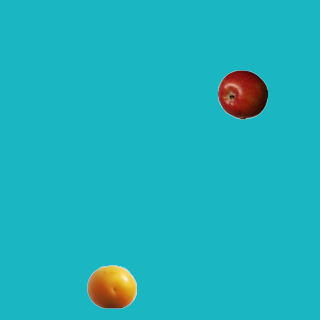Apple Braeburn: (217, 69, 267, 119)
Cherry Wax Yellow: (86, 261, 136, 311)
